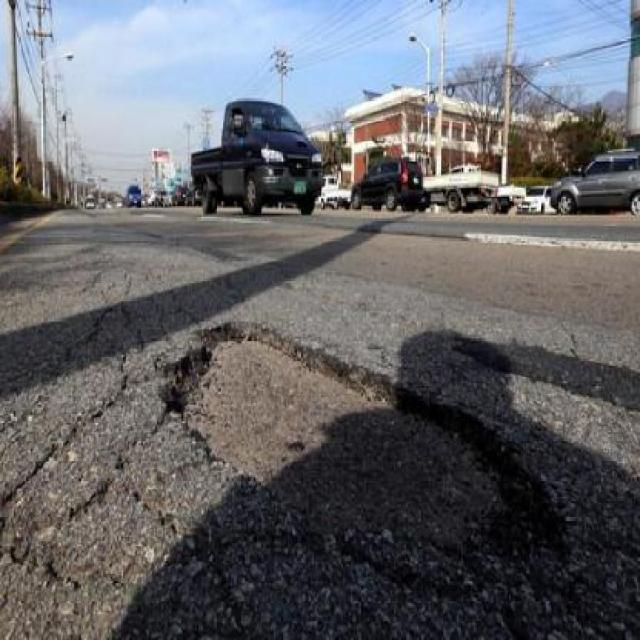Buraco: (148, 317, 577, 581)
